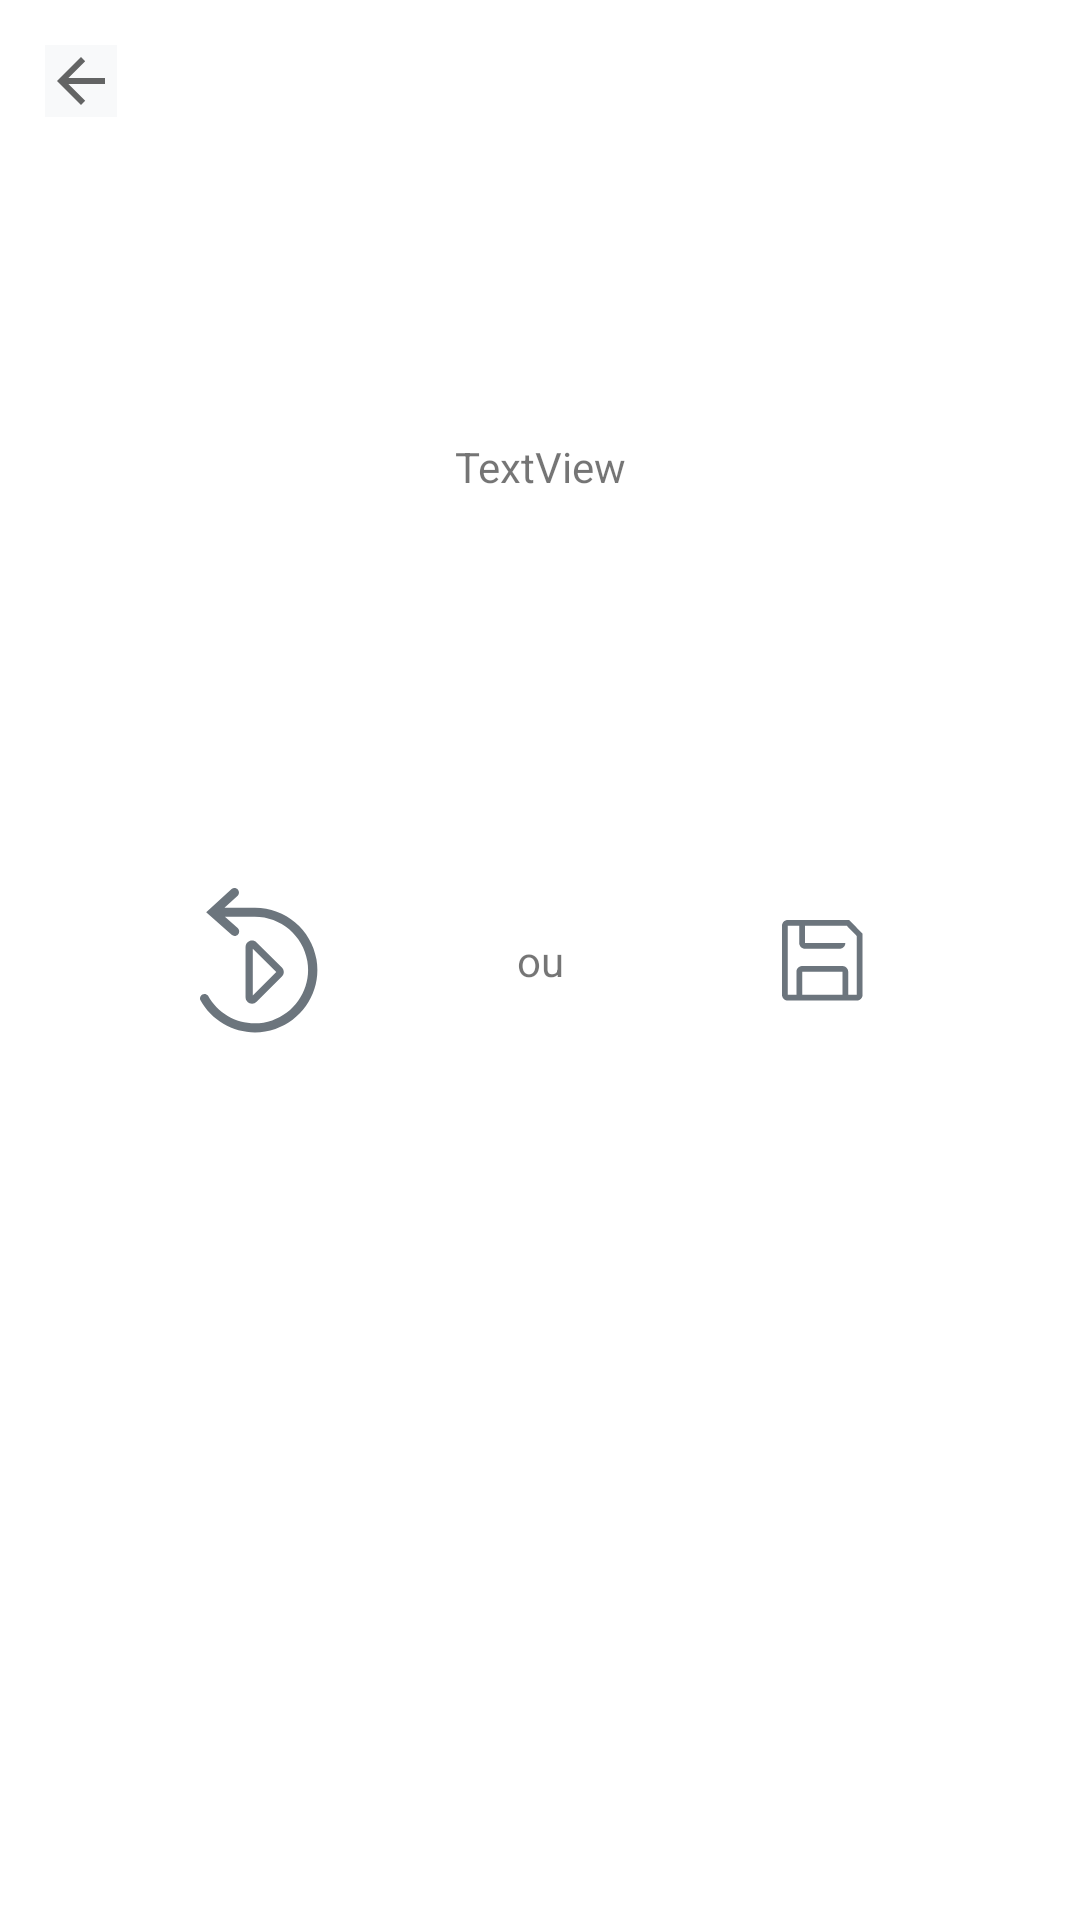

Icon bounding boxes for this 1080 x 1920 phone screenshot, format region(x1, y1, x2, y2):
replay all line: region(200, 888, 318, 1033)
save: region(782, 920, 863, 1001)
